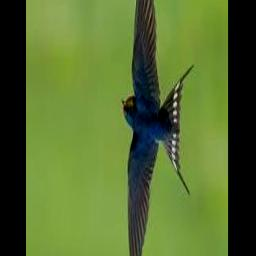Swallow: (121, 0, 194, 256)
